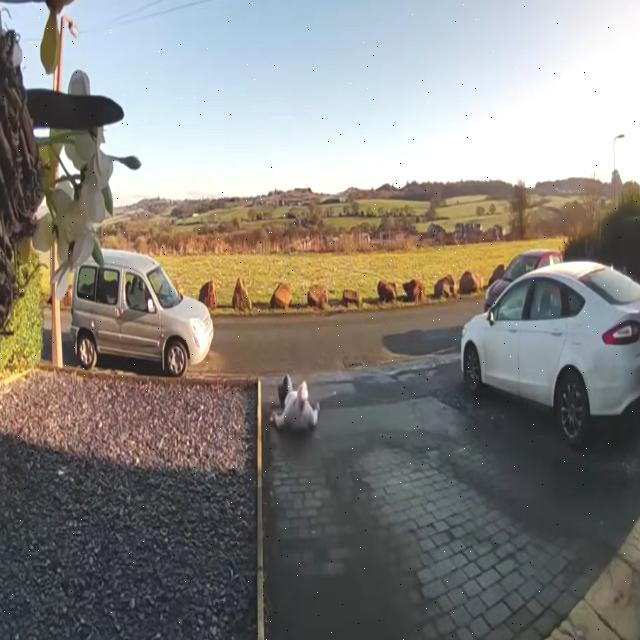fallen: (269, 373, 319, 430)
